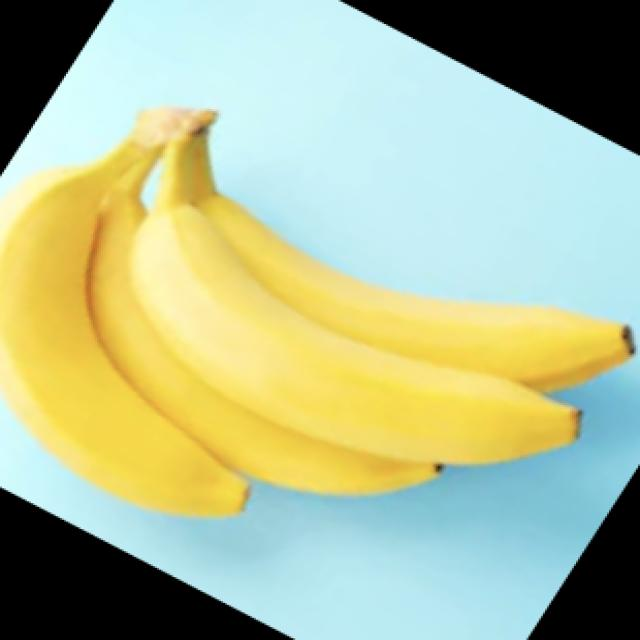god quality banana: (2, 109, 634, 517)
